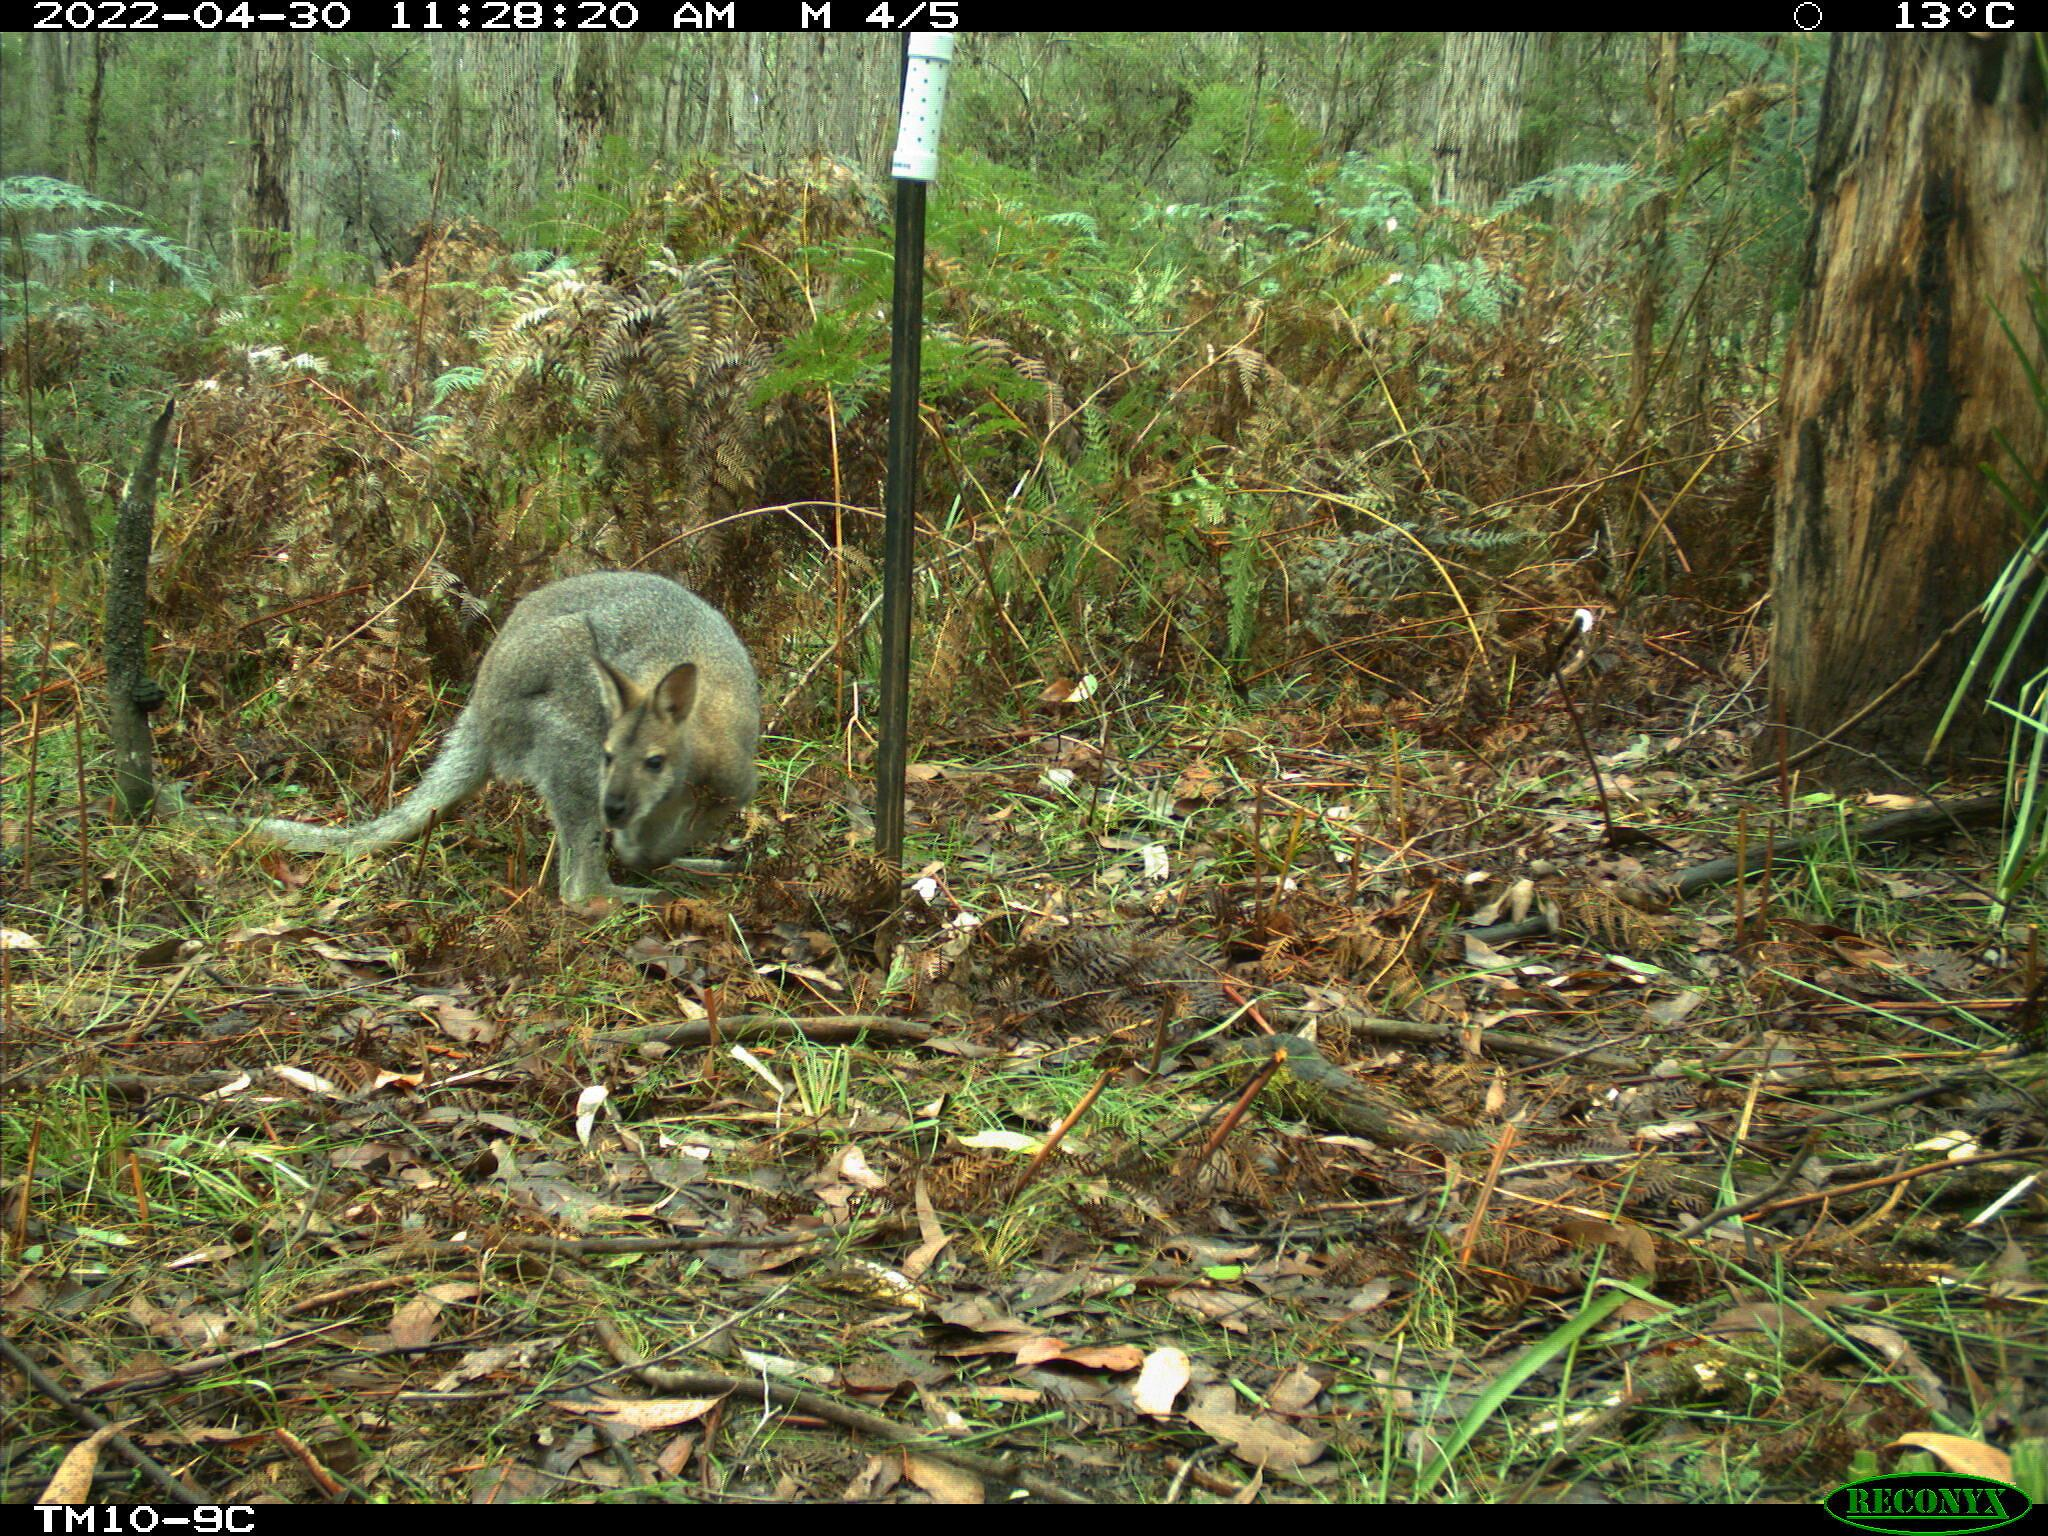Red-necked wallaby: (155, 570, 761, 913)
